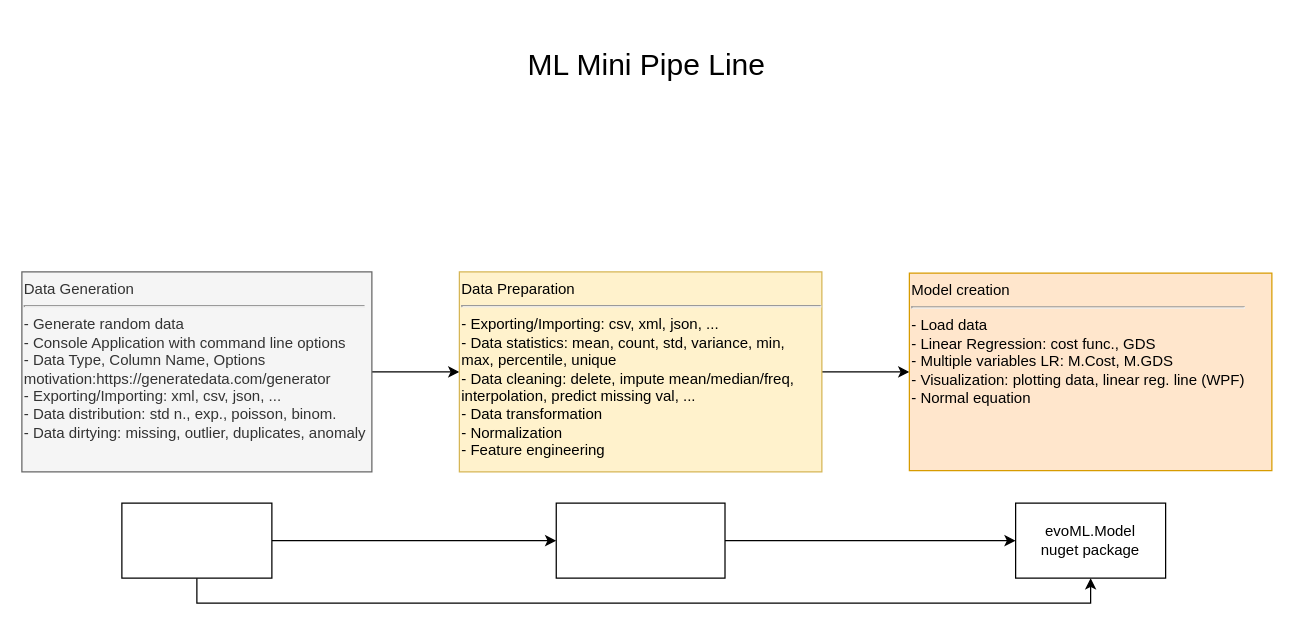
Some shapes in this 1294 by 635 pixel diagram are drawn without their labels. Here are the shapes that lost their labels. From the top down, the centre of each, then its label:
(x=196, y=540): evoML.DataGen nuget package
(x=640, y=540): evoML.FeatureEngine nuget package
